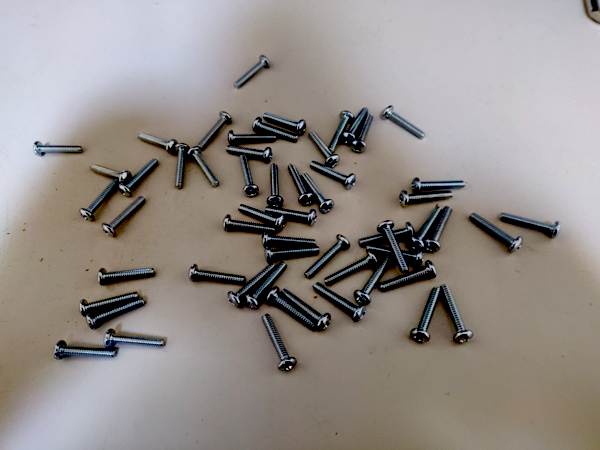longscrew: (440, 284, 479, 345), (313, 281, 361, 328), (78, 178, 122, 227), (270, 292, 320, 334), (470, 212, 522, 252), (247, 264, 293, 309), (264, 312, 296, 375), (228, 265, 277, 306), (303, 234, 348, 278), (106, 192, 149, 238), (372, 221, 409, 274), (498, 208, 561, 239), (87, 297, 147, 329), (382, 258, 437, 292), (325, 252, 381, 285), (284, 286, 328, 327), (412, 289, 444, 345), (355, 258, 392, 305), (119, 158, 160, 197), (357, 218, 414, 246), (378, 107, 427, 139), (95, 264, 159, 288), (77, 293, 141, 317), (104, 329, 168, 353), (51, 341, 115, 365), (410, 205, 444, 249), (189, 261, 249, 285), (303, 170, 336, 213), (285, 163, 318, 206), (427, 206, 455, 255), (310, 160, 356, 189), (310, 122, 338, 169), (363, 244, 425, 265), (201, 110, 236, 147), (233, 55, 272, 88), (190, 144, 219, 186), (240, 204, 285, 229), (221, 217, 277, 237), (351, 111, 376, 155), (342, 102, 367, 146), (328, 107, 353, 150), (229, 139, 272, 163), (268, 205, 317, 226), (413, 173, 467, 192), (265, 163, 288, 207), (234, 153, 257, 197), (255, 118, 297, 142), (262, 110, 305, 133), (265, 244, 322, 261), (229, 123, 271, 146), (398, 188, 451, 205), (34, 139, 84, 156), (134, 133, 178, 152), (259, 234, 319, 247), (83, 166, 134, 178), (176, 145, 183, 194)
